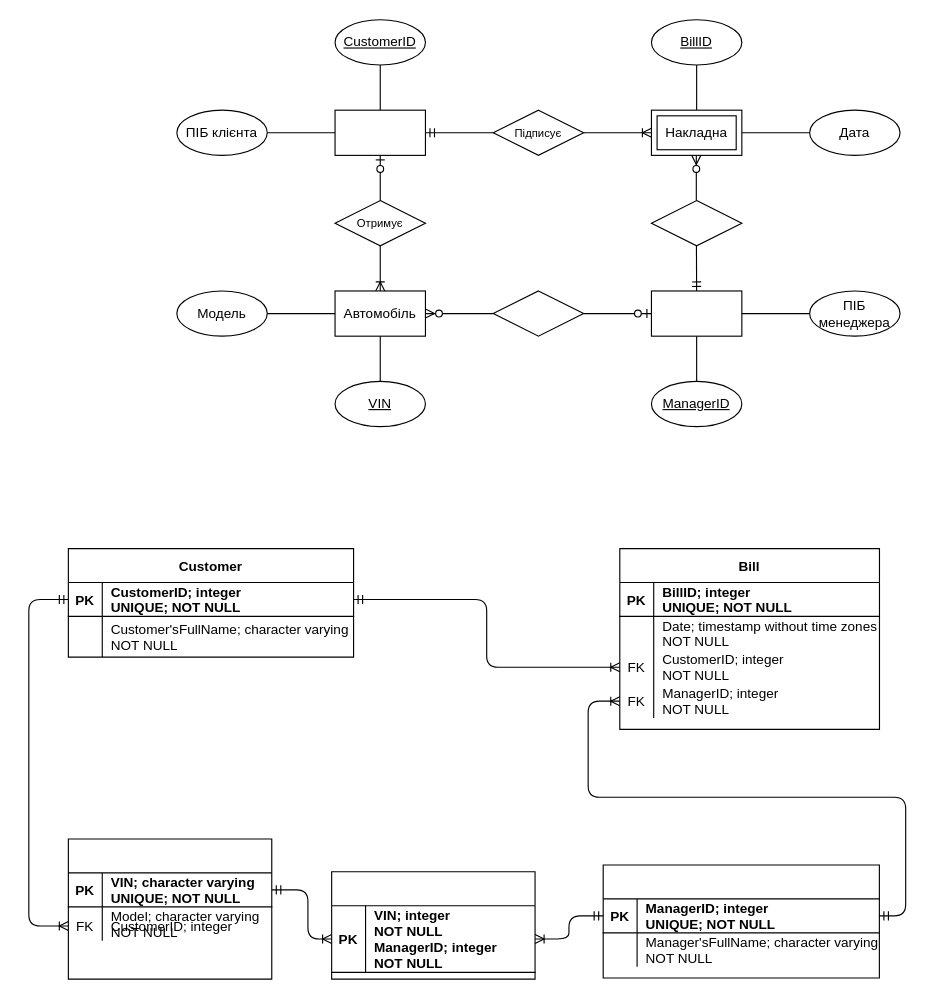
This 936x999 diagram has some shape labels left out. Each missing label, with the box of its shape:
Car: (67, 838, 272, 979)
Car/CarSalesManager: (331, 871, 535, 979)
CarSalesManager: (602, 864, 879, 978)
Заповнює: (650, 199, 742, 246)
Клієнт: (334, 109, 425, 155)
Менеджер з продажу автомобілів: (650, 290, 742, 336)
Продає: (492, 290, 584, 336)
